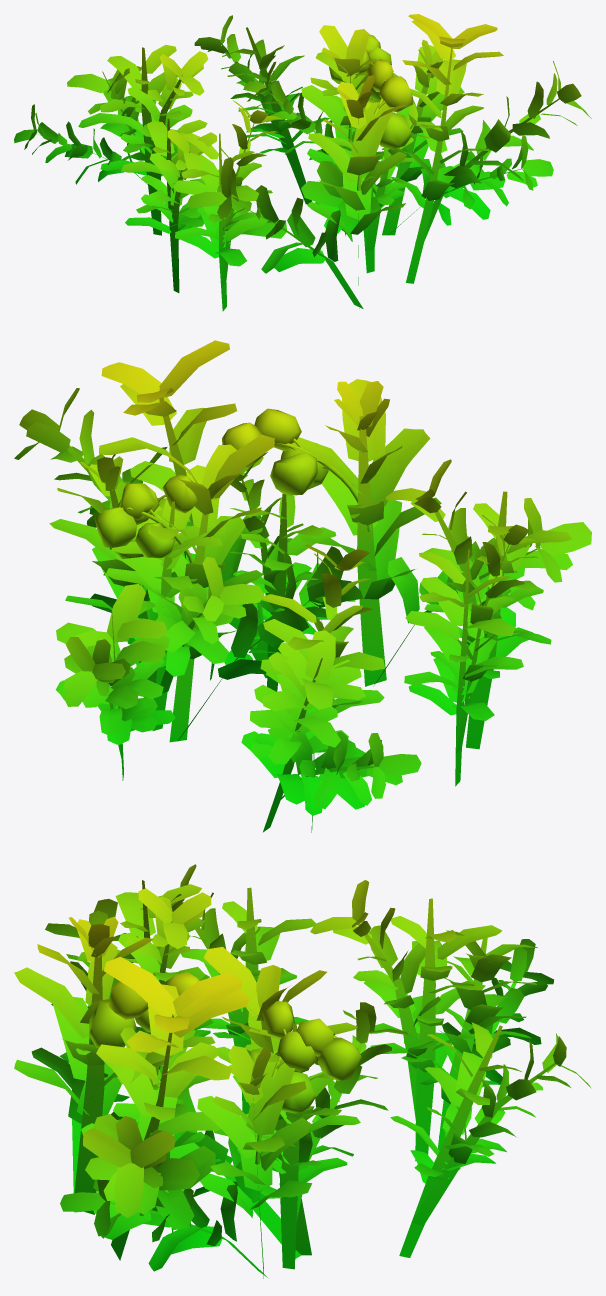
The model's file is Lingonberry_LOD2_Var6_wjhjahlqx.fbx.
3 views of the same model, one above another, from view 1: azimuth 30°, elevation 25°; view 2: azimuth 150°, elevation 25°; view 3: azimuth 270°, elevation 25° (orthographic). The views are drawn at different scales.
Visible parts, largest first — view 1: _wgtk_Var6_LOD2; view 2: _wgtk_Var6_LOD2; view 3: _wgtk_Var6_LOD2.
Boxes of the visible parts, bbox=[...] form: _wgtk_Var6_LOD2: bbox=[14, 14, 591, 311]; _wgtk_Var6_LOD2: bbox=[14, 340, 591, 832]; _wgtk_Var6_LOD2: bbox=[14, 864, 591, 1278].
Bounding box in the file's own units: 26.21 × 13.77 × 22.41.
